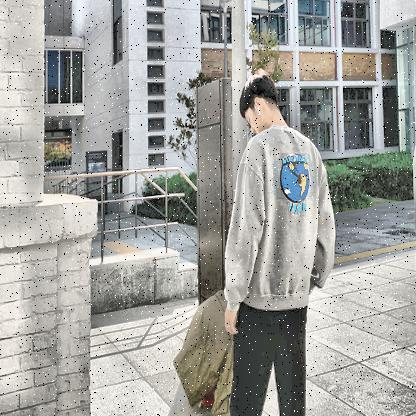sweater: (221, 125, 335, 312)
trousers: (230, 298, 310, 416)
